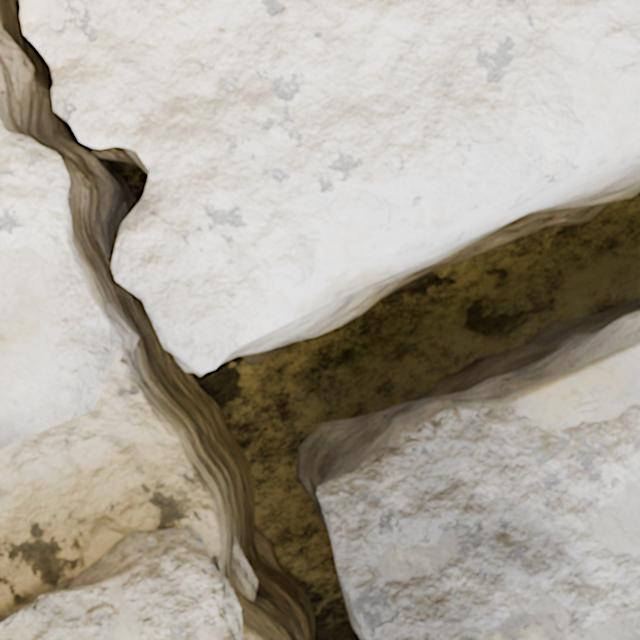brick: (318, 333, 639, 639), (0, 526, 242, 639)
broken_brick: (21, 0, 639, 371), (0, 124, 105, 448)
crack: (0, 0, 639, 639)
